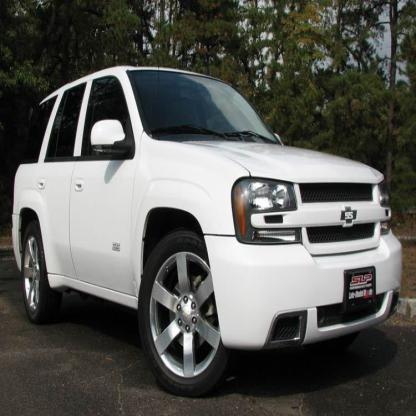Vehicle: (11, 62, 404, 401)
